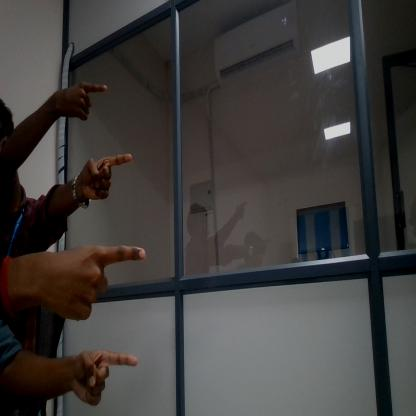Left: (61, 235, 153, 321), (66, 340, 147, 415), (59, 70, 121, 126), (82, 150, 140, 204)
